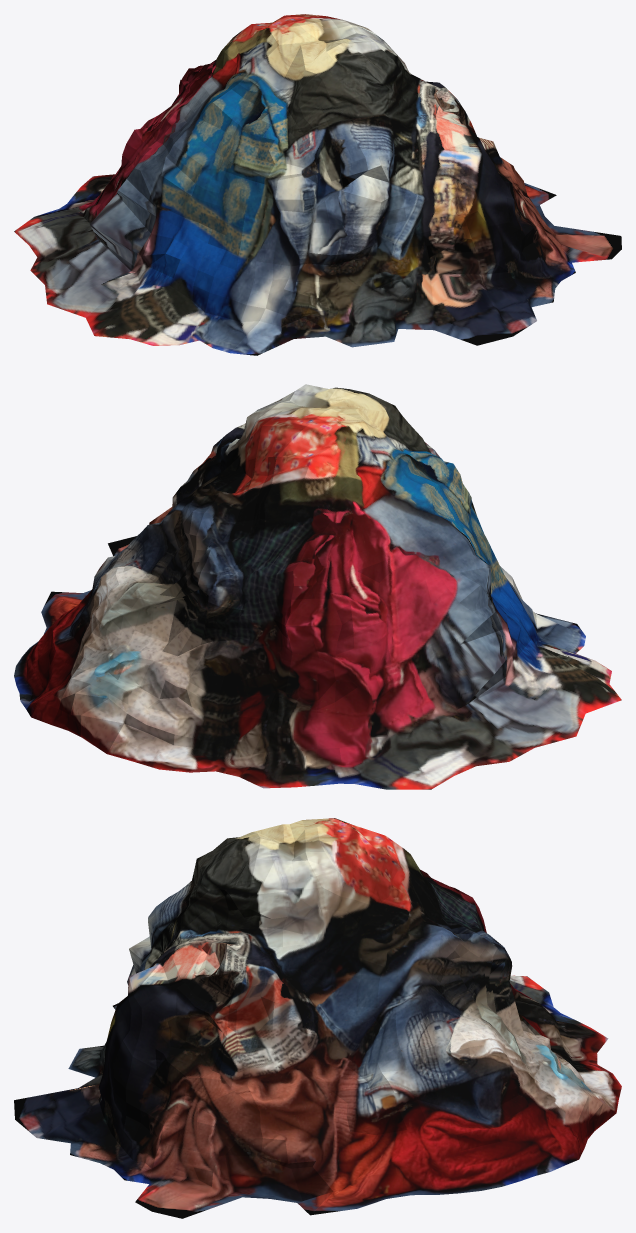
The model's file is ropa2.fbx.
3 renders of one model, top to bottom at view 1: azimuth 30°, elevation 25°; view 2: azimuth 150°, elevation 25°; view 3: azimuth 270°, elevation 25°, orthographic. The views are drawn at different scales.
Parts seen in each view (by area): view 1: large_pile_of_cloth; view 2: large_pile_of_cloth; view 3: large_pile_of_cloth.
Part boxes in pixels (<box>): large_pile_of_cloth: <box>14,14,621,355</box>; large_pile_of_cloth: <box>14,384,621,789</box>; large_pile_of_cloth: <box>14,818,621,1218</box>.
Bounding box in the file's own units: 2131 × 971 × 2034.
1 material, 1 textured.
